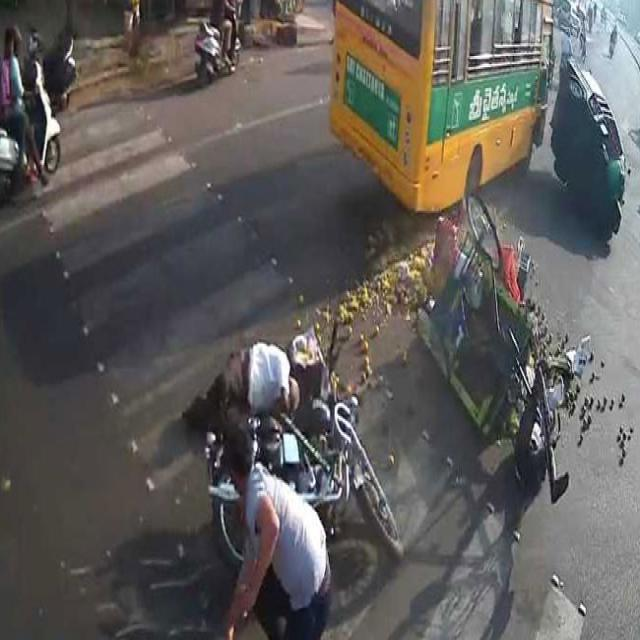accident: (186, 329, 404, 565), (550, 59, 626, 232)
bus: (330, 0, 551, 210)
motorcycle: (0, 28, 61, 200)
